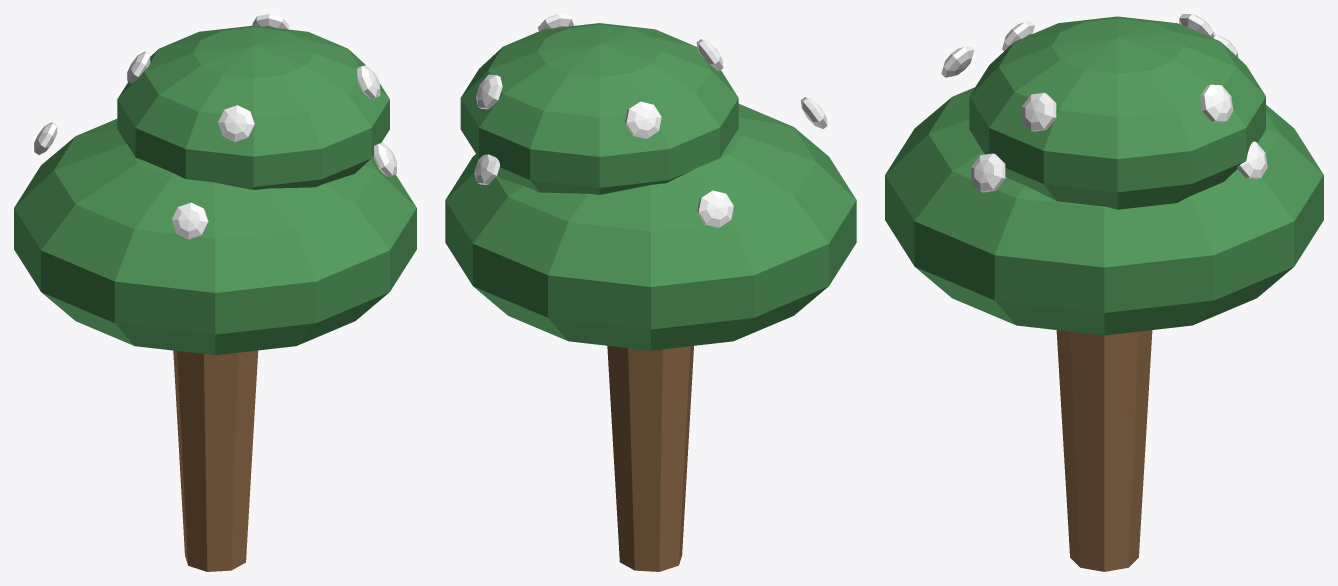
Rendered from tree.glb.
3 views of the same model, side by side, from view 1: azimuth 30°, elevation 25°; view 2: azimuth 150°, elevation 25°; view 3: azimuth 270°, elevation 25° (orthographic). The views are drawn at different scales.
Visible parts, largest first — view 1: cap1, cap2, trunk, dot.002, dot.006, dot.007, dot.003; view 2: cap1, cap2, trunk, dot.001, dot.005, dot.004, dot, dot.002; view 3: cap1, cap2, trunk, dot.007, dot.003, dot.004, dot, dot.002.
Part boxes in pixels (x1,y1,x2,y2): cap1: (14,119,416,355); cap2: (117,25,389,189); trunk: (173,350,258,571); dot.002: (171,202,208,239); dot.006: (218,105,254,142); dot.007: (357,65,380,99); dot.003: (374,143,396,176); cap1: (445,104,856,350); cap2: (460,23,738,194); trunk: (607,345,693,571); dot.001: (697,190,733,227); dot.005: (625,101,661,138); dot.004: (476,74,502,109); dot: (474,154,500,184); dot.002: (800,97,827,128); cap1: (885,87,1323,335); cap2: (969,16,1265,209); trunk: (1056,330,1152,571); dot.007: (1021,92,1056,131); dot.003: (971,153,1005,192); dot.004: (1200,84,1233,122); dot: (1237,141,1267,179); dot.002: (941,46,974,77).
Size of the model in its own units: 3.31 by 4.52 by 3.31.
